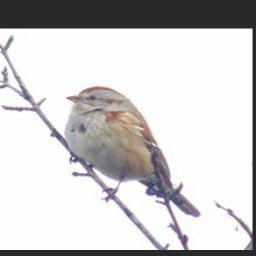Sparrow: (66, 84, 205, 218)
